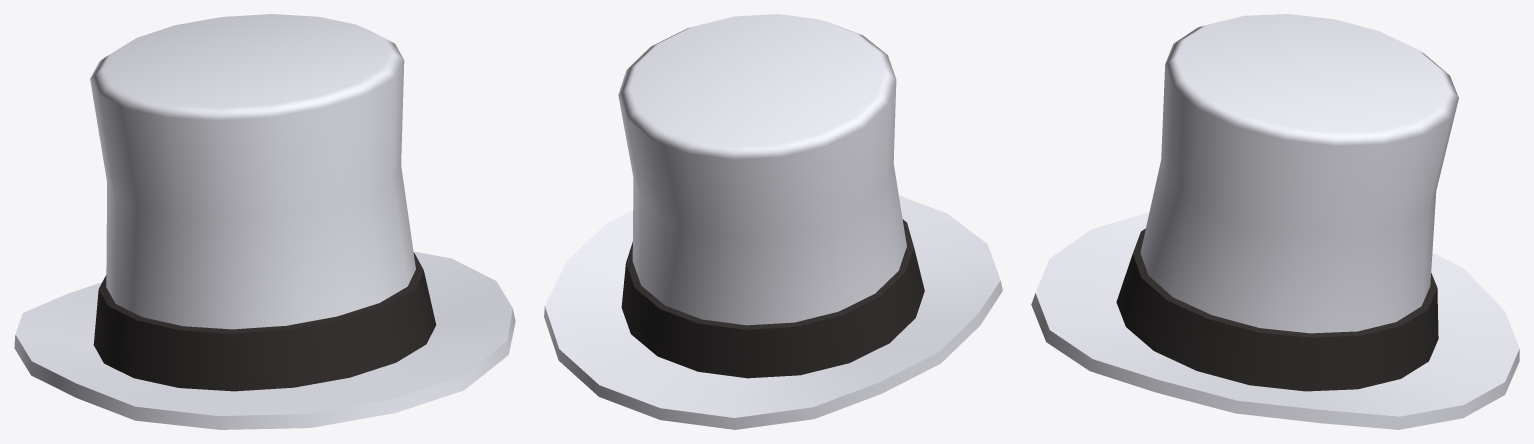
File: Hat_03_03.fbx
The picture shows the model from 3 angles, left to right: view 1: azimuth 30°, elevation 25°; view 2: azimuth 150°, elevation 25°; view 3: azimuth 270°, elevation 25°; orthographic projection. The views are drawn at different scales.
Parts seen in each view (by area): view 1: Hat_03_03; view 2: Hat_03_03; view 3: Hat_03_03.
Boxes of the visible parts, x1=… form: Hat_03_03: x1=14, y1=14, x2=515, y2=429; Hat_03_03: x1=544, y1=14, x2=1002, y2=429; Hat_03_03: x1=1031, y1=14, x2=1519, y2=429.
Size of the model in its own units: 51.45 by 37.17 by 54.23.
